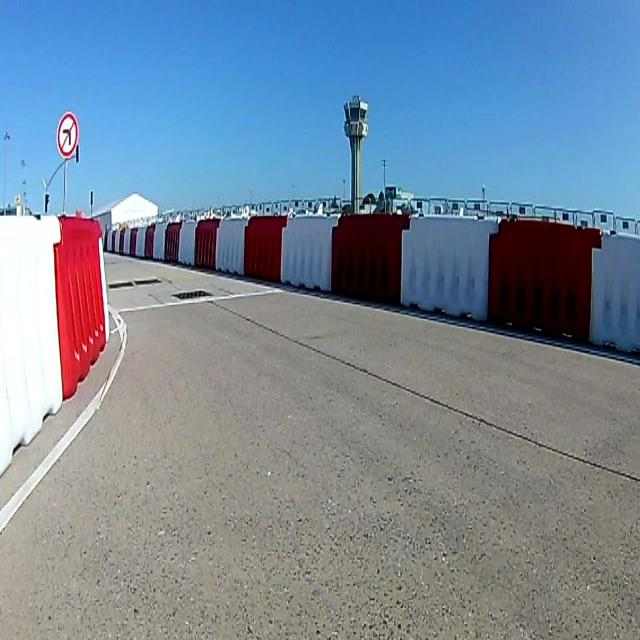soladonulmez: (57, 112, 79, 158)
